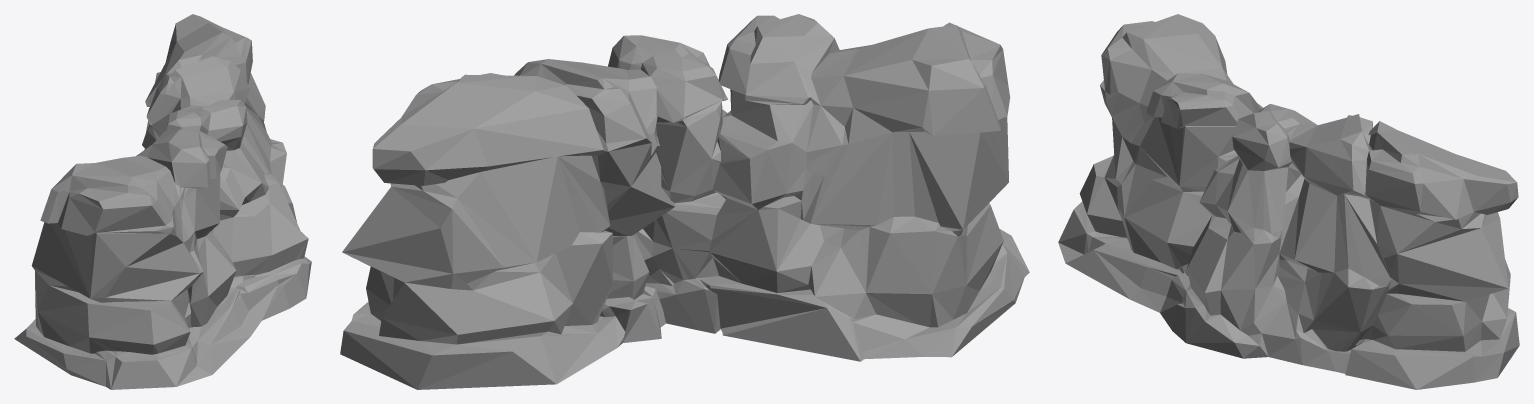
The model's file is rock__rockform_corner_soft_light.glb.
3 views of the same model, side by side, from view 1: azimuth 30°, elevation 25°; view 2: azimuth 150°, elevation 25°; view 3: azimuth 270°, elevation 25° (orthographic). The views are drawn at different scales.
Visible parts, largest first — view 1: rockform.corner.soft.light; view 2: rockform.corner.soft.light; view 3: rockform.corner.soft.light.
Part boxes in pixels (<box>): rockform.corner.soft.light: <box>14,14,311,389</box>; rockform.corner.soft.light: <box>340,14,1029,389</box>; rockform.corner.soft.light: <box>1058,14,1519,389</box>.
Size of the model in its own units: 30.36 by 15.37 by 31.39.
Materials: 1 (1 with a texture image).
